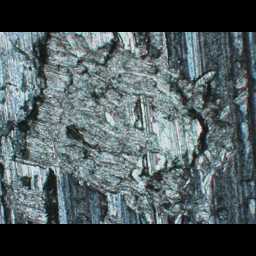d: (0, 32, 252, 221)
